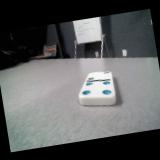domino: (79, 72, 116, 105)
